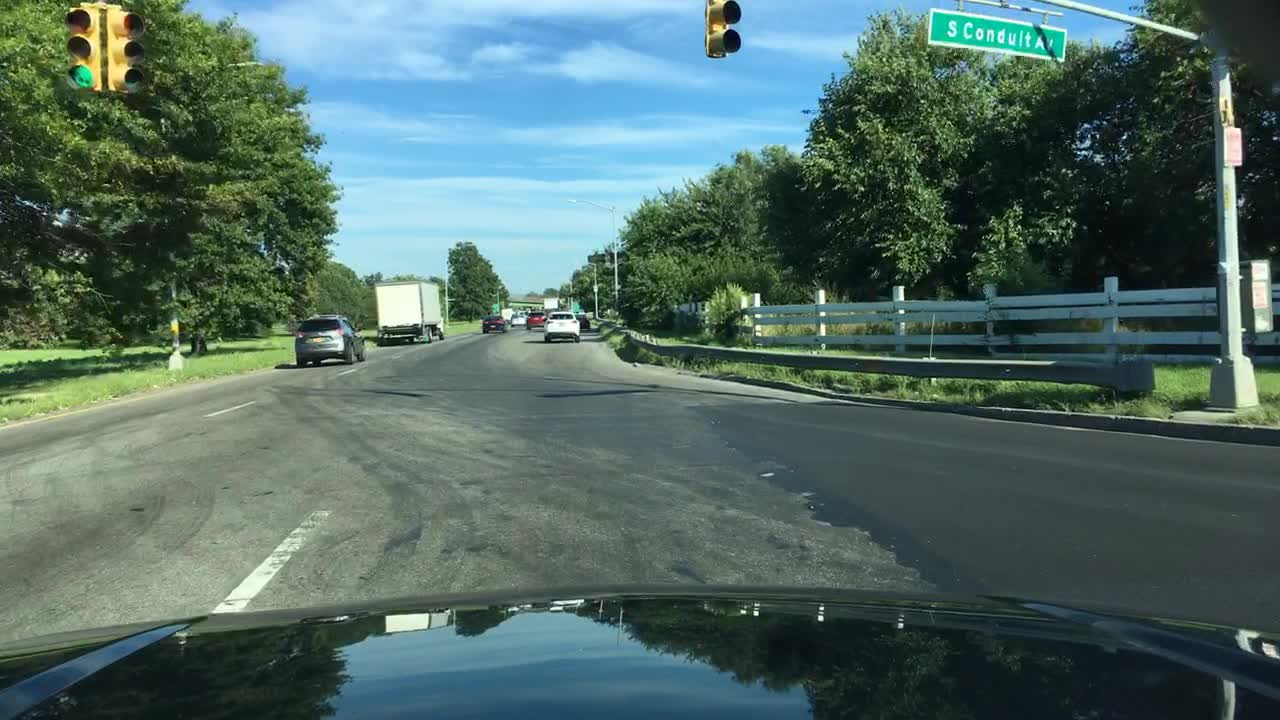car: (293, 313, 366, 366), (545, 311, 581, 344), (524, 310, 551, 331), (481, 314, 507, 334), (575, 311, 588, 331), (511, 311, 524, 329)
traffic light: (63, 4, 102, 96), (106, 7, 147, 93), (702, 2, 741, 62)
traffic sign: (924, 8, 1069, 62), (1215, 127, 1245, 165)
truck: (371, 278, 446, 348), (541, 298, 571, 316)
